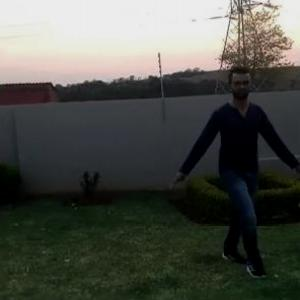land: (175, 65, 294, 263)
